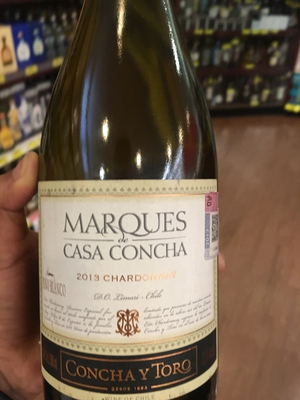marques de casa concha chardonnay: (30, 7, 222, 400)
